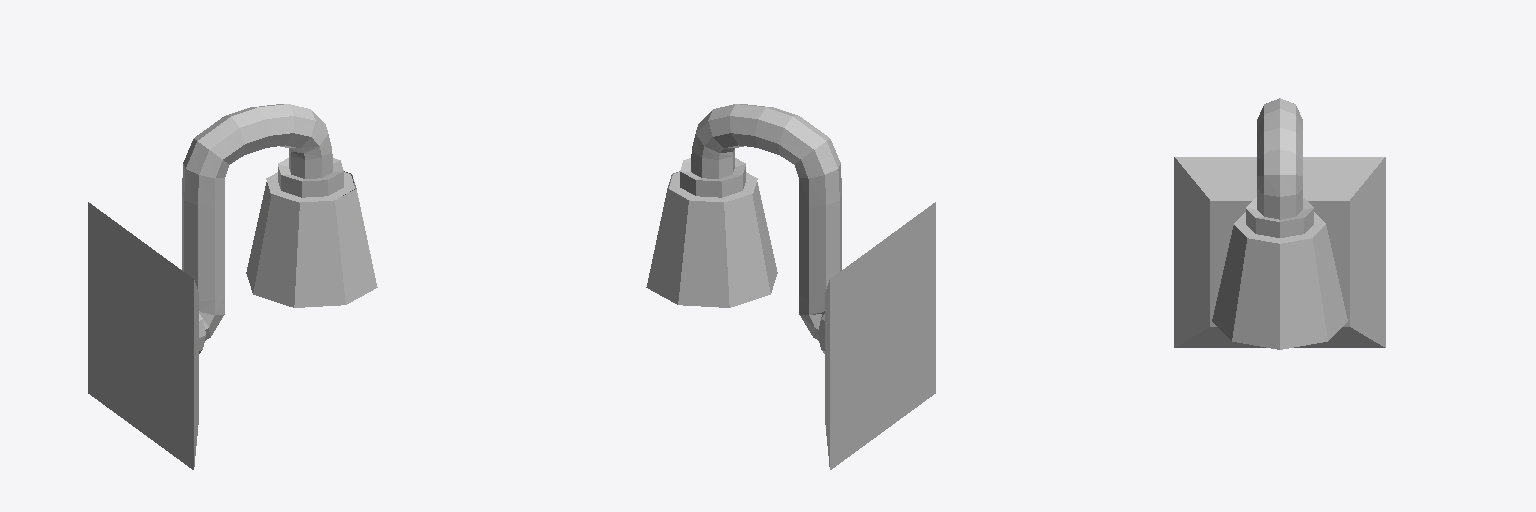
The model's file is WallLamp.obj.
The picture shows the model from 3 angles: view 1: azimuth 30°, elevation 25°; view 2: azimuth 150°, elevation 25°; view 3: azimuth 270°, elevation 25°; orthographic projection.
Parts seen in each view (by area): view 1: Cube, Cylinder, Cylinder.002; view 2: Cube, Cylinder, Cylinder.002; view 3: Cube, Cylinder.002, Cylinder.
Boxes of the visible parts, box(x1,y1,x2,y2) form: Cube: box(88, 202, 198, 469); Cylinder: box(182, 104, 343, 353); Cylinder.002: box(246, 171, 377, 307); Cube: box(825, 202, 935, 469); Cylinder: box(680, 104, 841, 353); Cylinder.002: box(646, 171, 777, 307); Cube: box(1174, 157, 1385, 347); Cylinder.002: box(1212, 212, 1347, 349); Cylinder: box(1246, 98, 1313, 237).
Bounding box in the file's own units: 0.6766 × 0.8347 × 0.5396.